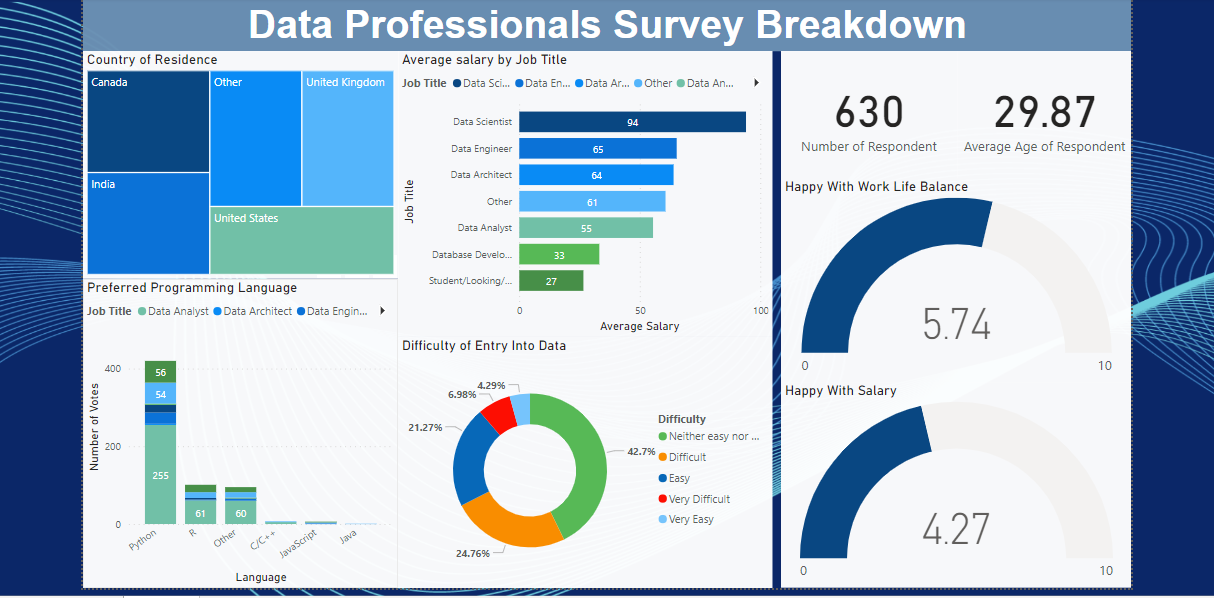

What the dashboard file says about the page in this screenshot:
{"tool":"powerbi","page":{"name":"Page 1","canvas":[1280,720],"ordinal":0},"visuals":[{"type":"textbox","title":"hjdkfvnskjncvkxn","box":[0,0,1280,65.1],"z":1000},{"type":"card","fields":{"Values":["CountNonNull(Data Professional Survey.Unique ID)"]},"box":[851.3,65.2,214.7,155.2],"z":2000},{"type":"card","fields":{"Values":["Avg(Data Professional Survey.Q10 - Current Age)"]},"box":[1066,64.8,213.7,155],"z":3000},{"type":"barChart","title":"Average salary by Job Title","fields":{"Category":["Data Professional Survey.Q1 - Which Title Best Fits your Current Role?.1"],"Series":["Data Professional Survey.Q1 - Which Title Best Fits your Current Role?.1"],"Y":["Avg(Data Professional Survey.Average Salary)"]},"box":[384.5,64.8,457.2,348.6],"z":4000},{"type":"columnChart","title":"Preferred Programming Language","fields":{"Y":["CountNonNull(Data Professional Survey.Unique ID)"],"Category":["Data Professional Survey.Q5 - Favorite Programming Language.1"],"Series":["Data Professional Survey.Q1 - Which Title Best Fits your Current Role?.1"]},"box":[0,342.7,384,377.3],"z":5000},{"type":"treemap","title":"Country of Residence","fields":{"Group":["Data Professional Survey.Q11 - Which Country do you live in?.1"],"Values":["Count(Data Professional Survey.Q11 - Which Country do you live in?.1)"]},"box":[0,64.8,384.5,277.7],"z":6000},{"type":"gauge","title":"Happy With Work Life Balance","fields":{"Y":["Avg(Data Professional Survey.Q6 - How Happy are you in your Current Position with the following? (Work/Life Balance))"],"MinValue":["Min(Data Professional Survey.Q6 - How Happy are you in your Current Position with the following? (Work/Life Balance))"],"MaxValue":["Max(Data Professional Survey.Q6 - How Happy are you in your Current Position with the following? (Work/Life Balance))"]},"box":[851.3,219.6,428.5,249.4],"z":7000},{"type":"gauge","title":"Happy With Salary","fields":{"Y":["Avg(Data Professional Survey.Q6 - How Happy are you in your Current Position with the following? (Salary))"],"MinValue":["Min(Data Professional Survey.Q6 - How Happy are you in your Current Position with the following? (Salary))"],"MaxValue":["Max(Data Professional Survey.Q6 - How Happy are you in your Current Position with the following? (Upward Mobility))"]},"box":[851.3,469,428.5,251],"z":8000},{"type":"donutChart","title":"Difficulty of Entry Into Data","fields":{"Category":["Data Professional Survey.Q7 - How difficult was it for you to break into Data?"],"Y":["CountNonNull(Data Professional Survey.Q7 - How difficult was it for you to break into Data?)"]},"box":[384.5,413.4,457.2,306.6],"z":9000}]}

Visuals, with their boxes in screenshot pixels (x1, y1, x2, y2):
"hjdkfvnskjncvkxn" textbox: box=[79, 0, 1127, 50]
card - CountNonNull(Data Professional Survey.Unique ID): box=[776, 50, 951, 177]
card - Avg(Data Professional Survey.Q10 - Current Age): box=[951, 50, 1126, 177]
"Average salary by Job Title" barChart: box=[394, 50, 768, 335]
"Preferred Programming Language" columnChart: box=[79, 277, 393, 586]
"Country of Residence" treemap: box=[79, 50, 394, 277]
"Happy With Work Life Balance" gauge: box=[776, 177, 1126, 381]
"Happy With Salary" gauge: box=[776, 381, 1126, 586]
"Difficulty of Entry Into Data" donutChart: box=[394, 335, 768, 586]
